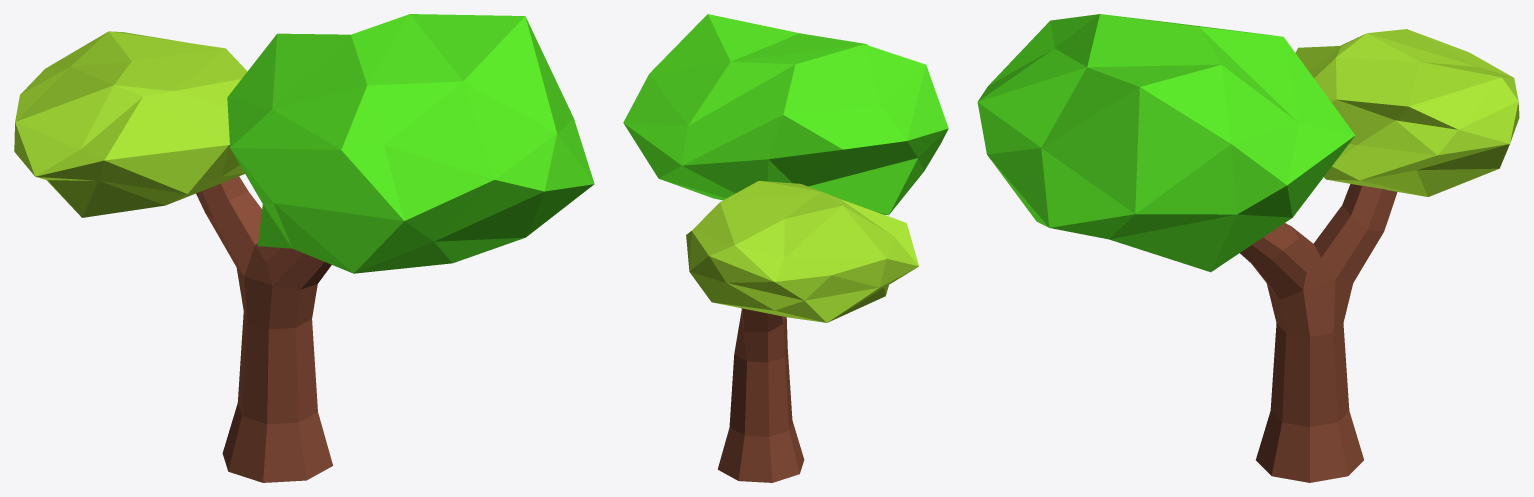
File: Oak_03.fbx
3 renders of one model, left to right at view 1: azimuth 30°, elevation 25°; view 2: azimuth 150°, elevation 25°; view 3: azimuth 270°, elevation 25°, orthographic. The views are drawn at different scales.
Visible parts, largest first — view 1: tree.003; view 2: tree.003; view 3: tree.003.
Part boxes in pixels (x1,y1,x2,y2): tree.003: (14,14,594,482); tree.003: (623,14,948,482); tree.003: (977,14,1519,482).
Size of the model in its own units: 388 by 409 by 451.
